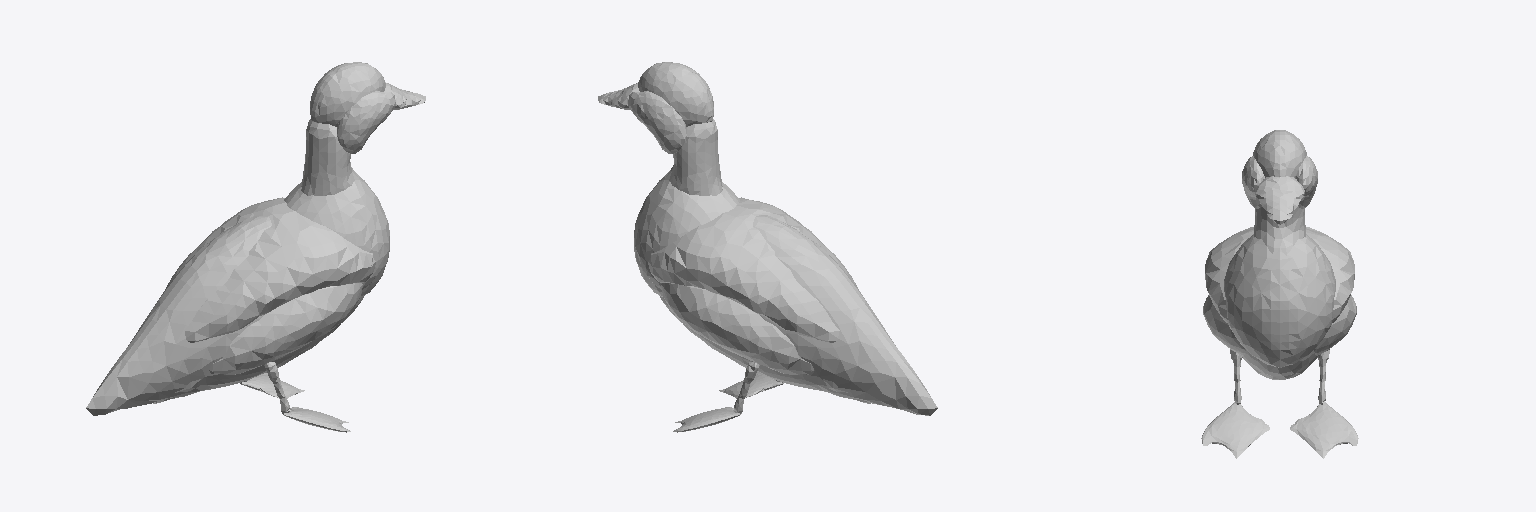
File: duck.obj
The picture shows the model from 3 angles: view 1: azimuth 30°, elevation 25°; view 2: azimuth 150°, elevation 25°; view 3: azimuth 270°, elevation 25°; orthographic projection.
Bounding box in the file's own units: 105 × 99.65 × 42.27.